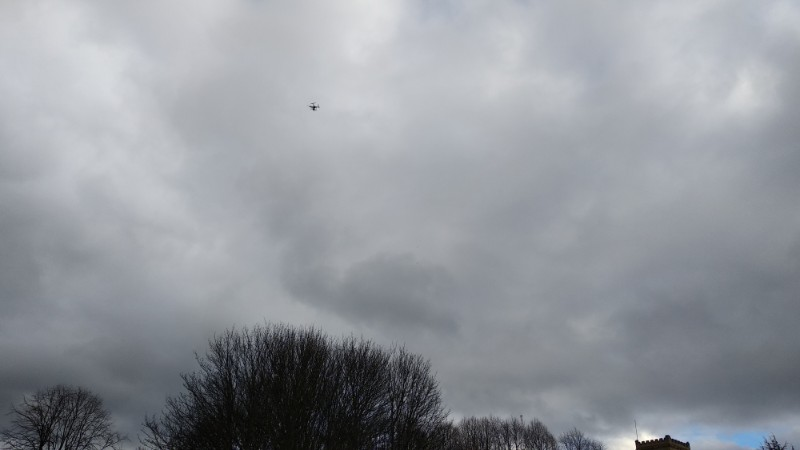drone: (308, 103, 320, 111)
